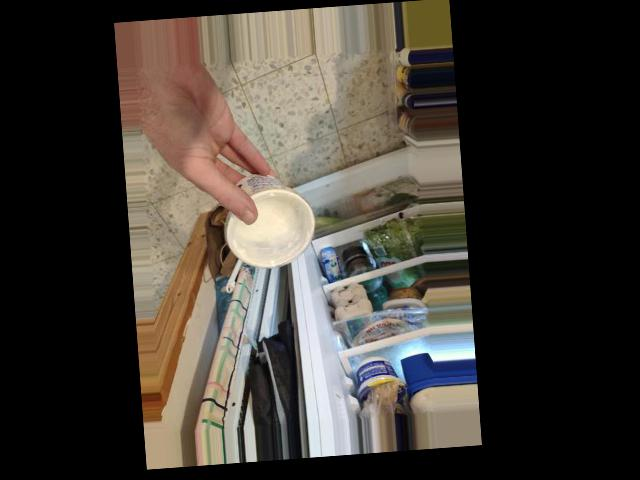cotage: (219, 174, 293, 264)
